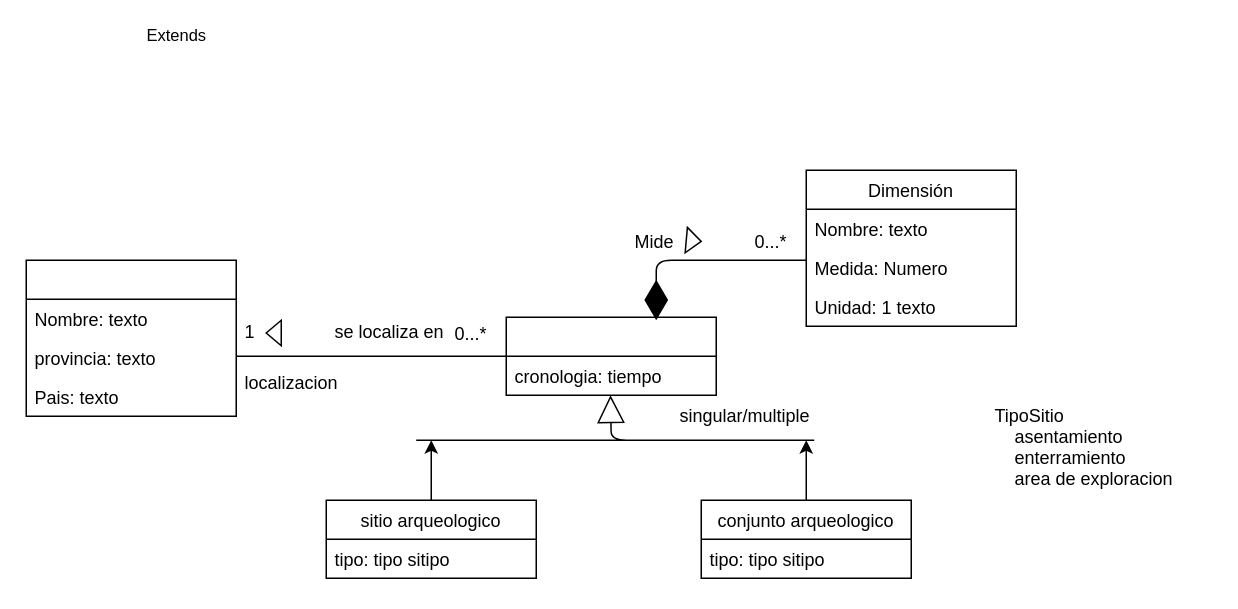
The diagram is 1238 pixels wide and 609 high, and some of its shapes have lost their labels. The shapes that lost their labels are listed below. From the top down, each one's box as (x1, y1, x2, y2) in pixels, then its label:
(25, 259, 236, 416): Lugar
(505, 316, 716, 395): entidad arqueologica (A)
